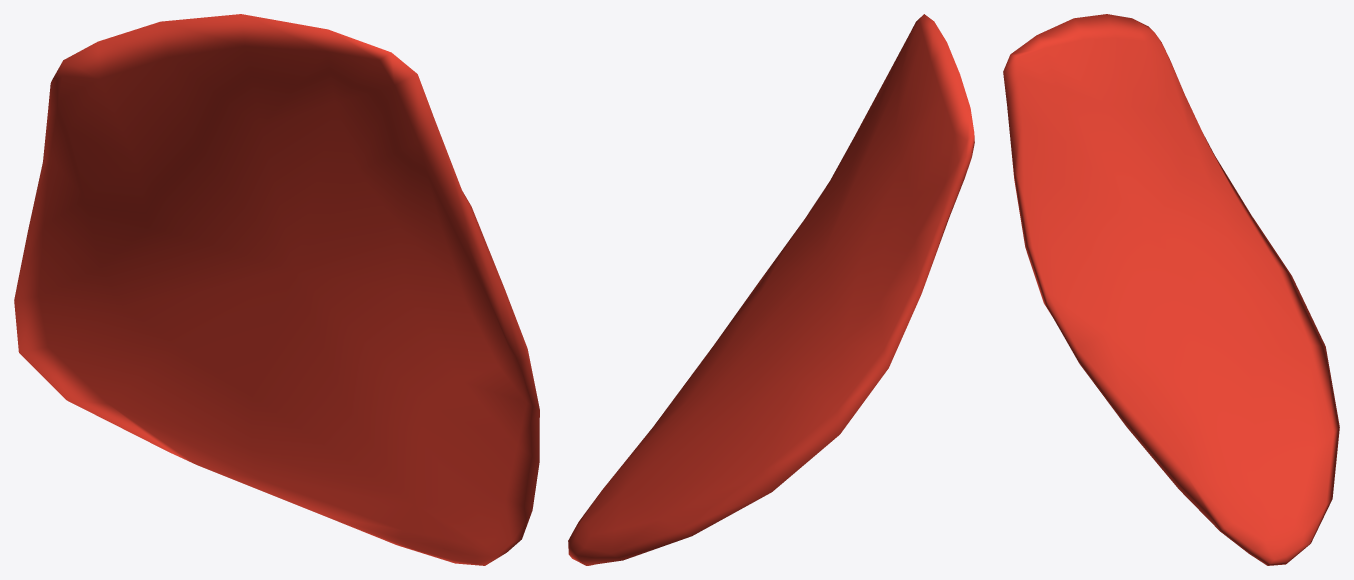
File: Gastrocnemius_lateral_head_supracondylar_tubercle_002.glb
3 renders of one model, left to right at view 1: azimuth 30°, elevation 25°; view 2: azimuth 150°, elevation 25°; view 3: azimuth 270°, elevation 25°, orthographic. The views are drawn at different scales.
Parts seen in each view (by area): view 1: Lateral_head_of_gastrocnemius_on_lat._supracondylar_tubercl_; view 2: Lateral_head_of_gastrocnemius_on_lat._supracondylar_tubercl_; view 3: Lateral_head_of_gastrocnemius_on_lat._supracondylar_tubercl_.
Boxes of the visible parts, bbox=[...] form: Lateral_head_of_gastrocnemius_on_lat._supracondylar_tubercl_: bbox=[14, 14, 539, 565]; Lateral_head_of_gastrocnemius_on_lat._supracondylar_tubercl_: bbox=[568, 14, 974, 565]; Lateral_head_of_gastrocnemius_on_lat._supracondylar_tubercl_: bbox=[1003, 14, 1339, 565].
Bounding box in the file's own units: 0.0131 × 0.0181 × 0.0127.
